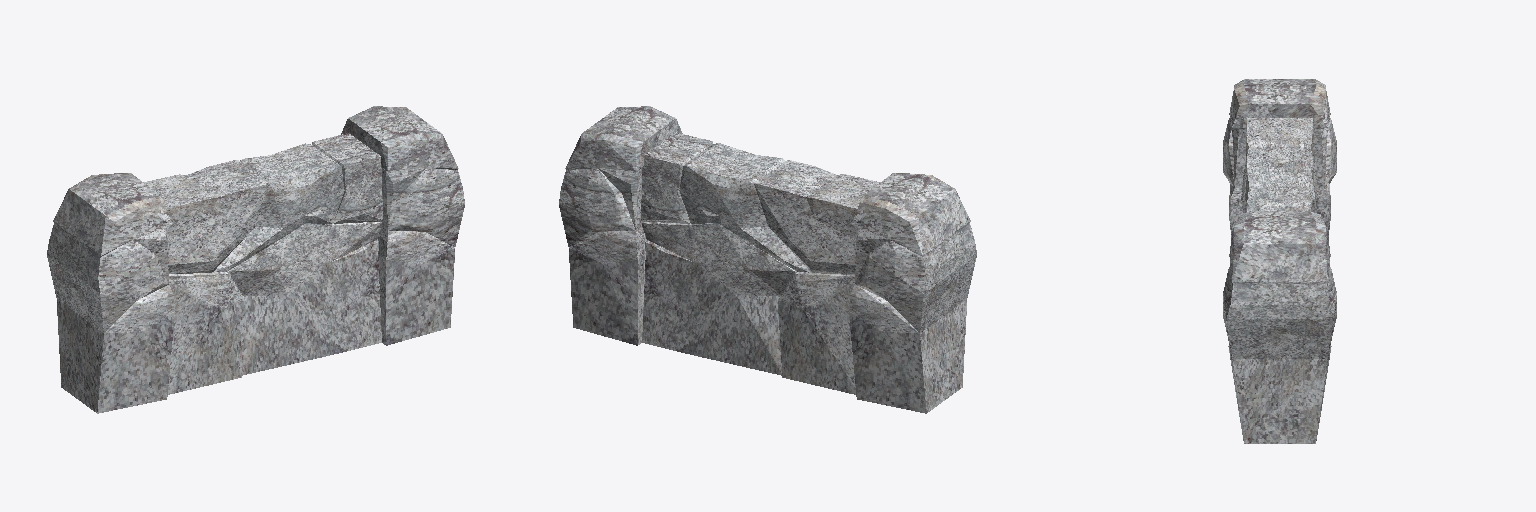
3 renders of one model, left to right at view 1: azimuth 30°, elevation 25°; view 2: azimuth 150°, elevation 25°; view 3: azimuth 270°, elevation 25°, orthographic.
Parts seen in each view (by area): view 1: Mesh_0370, Mesh_0368, Mesh_0369, Mesh_0371; view 2: Mesh_0370, Mesh_0368, Mesh_0369, Mesh_0371; view 3: Mesh_0369, Mesh_0371, Mesh_0368, Mesh_0370.
Boxes of the visible parts, x1,y1,x2,y2 form: Mesh_0370: [167, 157, 382, 394]; Mesh_0368: [57, 106, 464, 413]; Mesh_0369: [47, 107, 441, 412]; Mesh_0371: [144, 133, 380, 208]; Mesh_0370: [641, 156, 856, 394]; Mesh_0368: [559, 106, 966, 413]; Mesh_0369: [582, 107, 976, 412]; Mesh_0371: [644, 132, 879, 208]; Mesh_0369: [1227, 79, 1332, 443]; Mesh_0371: [1247, 118, 1312, 211]; Mesh_0368: [1223, 80, 1336, 434]; Mesh_0370: [1241, 118, 1318, 212].
Size of the model in its own units: 256 by 136 by 69.3.
4 materials, 1 textured.